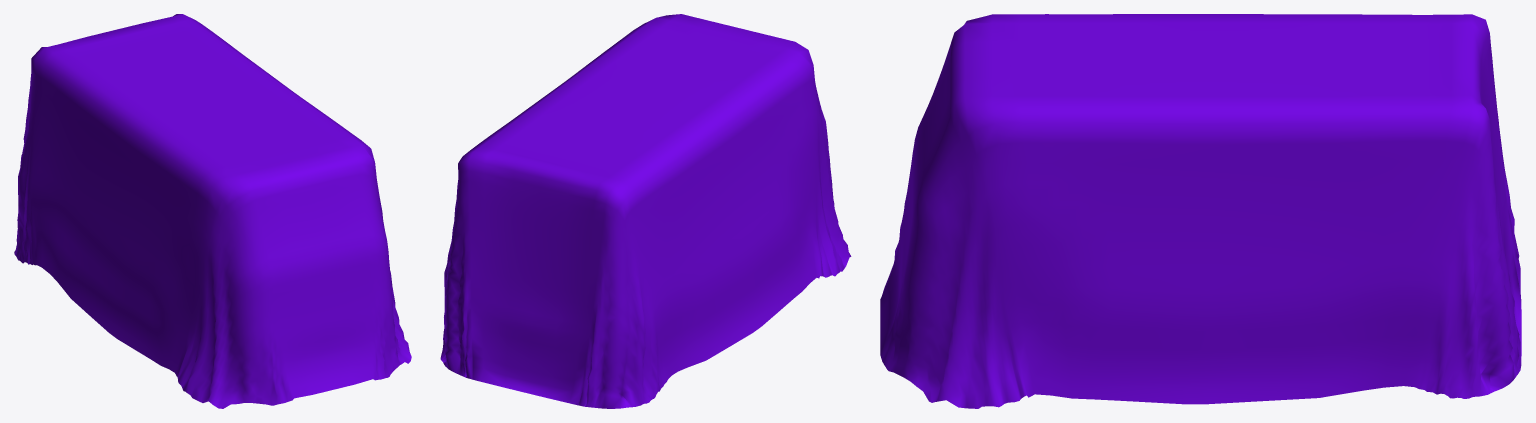
Rendered from Curtain-v7.fbx.
The picture shows the model from 3 angles, left to right: view 1: azimuth 30°, elevation 25°; view 2: azimuth 150°, elevation 25°; view 3: azimuth 270°, elevation 25°; orthographic projection. The views are drawn at different scales.
Visible parts, largest first — view 1: Plane.006; view 2: Plane.006; view 3: Plane.006.
Boxes of the visible parts, <box> form: Plane.006: <box>14,14,411,408</box>; Plane.006: <box>440,14,851,408</box>; Plane.006: <box>880,14,1521,408</box>.
Bounding box in the file's own units: 275 × 258 × 531.
